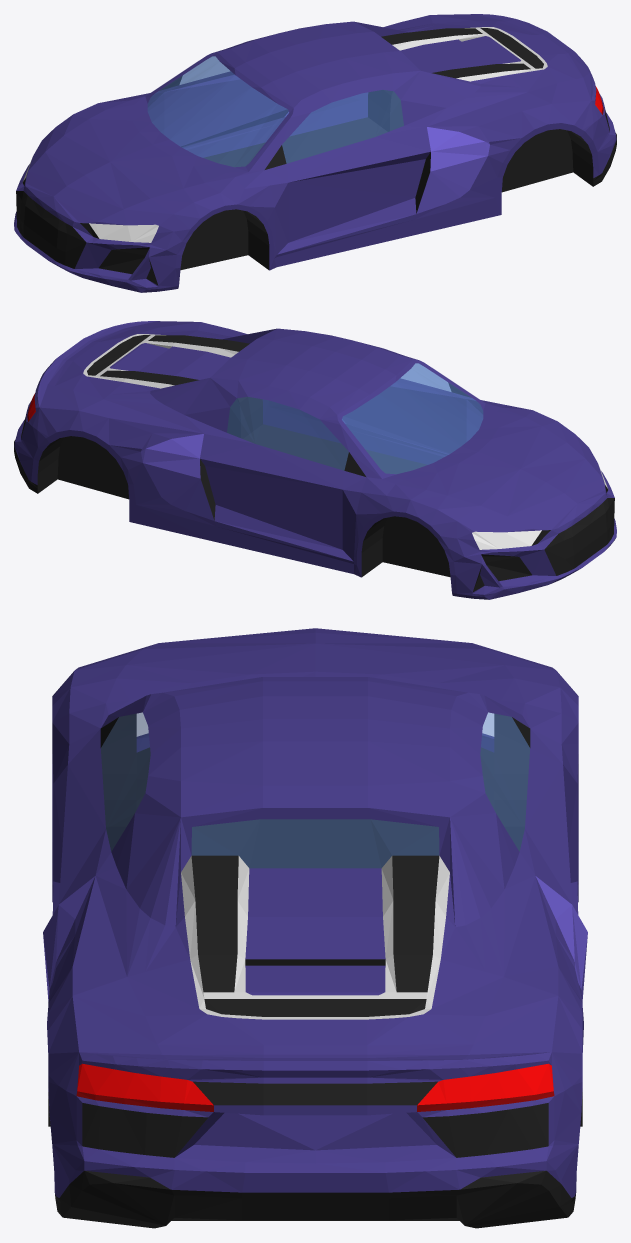
Rendered from Holy Gift.fbx.
The picture shows the model from 3 angles, top to bottom: view 1: azimuth 30°, elevation 25°; view 2: azimuth 150°, elevation 25°; view 3: azimuth 270°, elevation 25°; orthographic projection. The views are drawn at different scales.
Visible parts, largest first — view 1: _(Loose Entity); view 2: _(Loose Entity); view 3: _(Loose Entity).
Part boxes in pixels (left/top/right/bottom): _(Loose Entity): left=14, top=14, right=616, bottom=292; _(Loose Entity): left=14, top=321, right=616, bottom=599; _(Loose Entity): left=43, top=628, right=587, bottom=1228.
Bounding box in the file's own units: 473 × 120 × 207.
